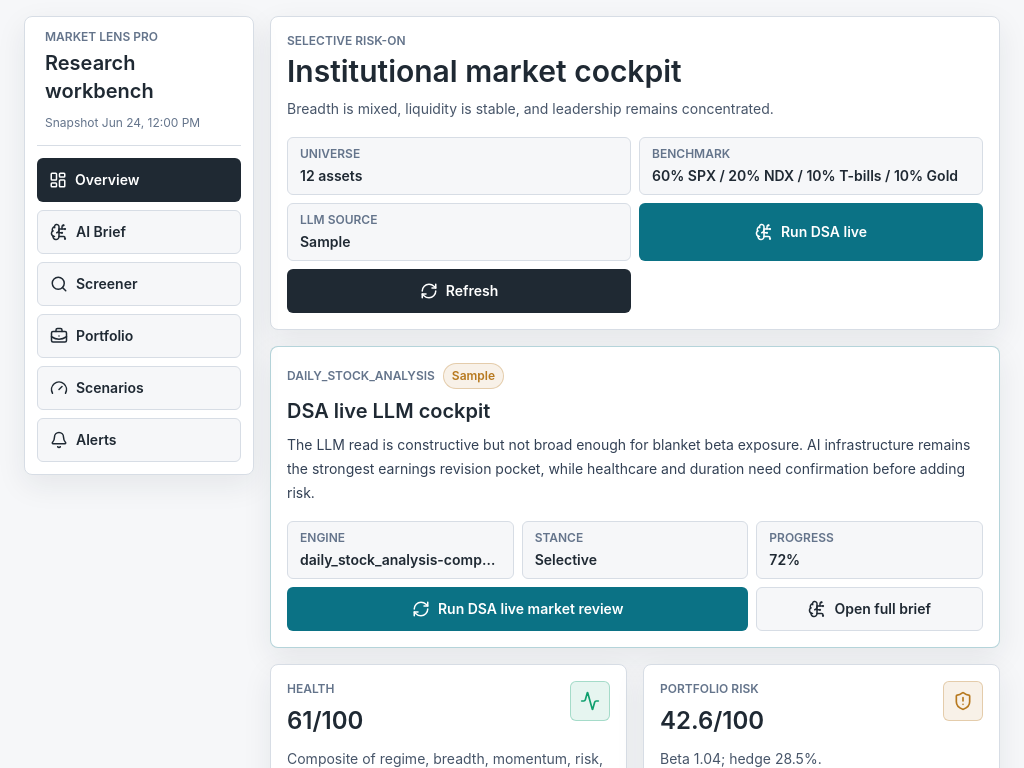
Test: MarketDashboard › supports portfolio, scenario, and alert workspaces
Click the button "Portfolio". click: [139, 336]
box: [37,314,241,358]
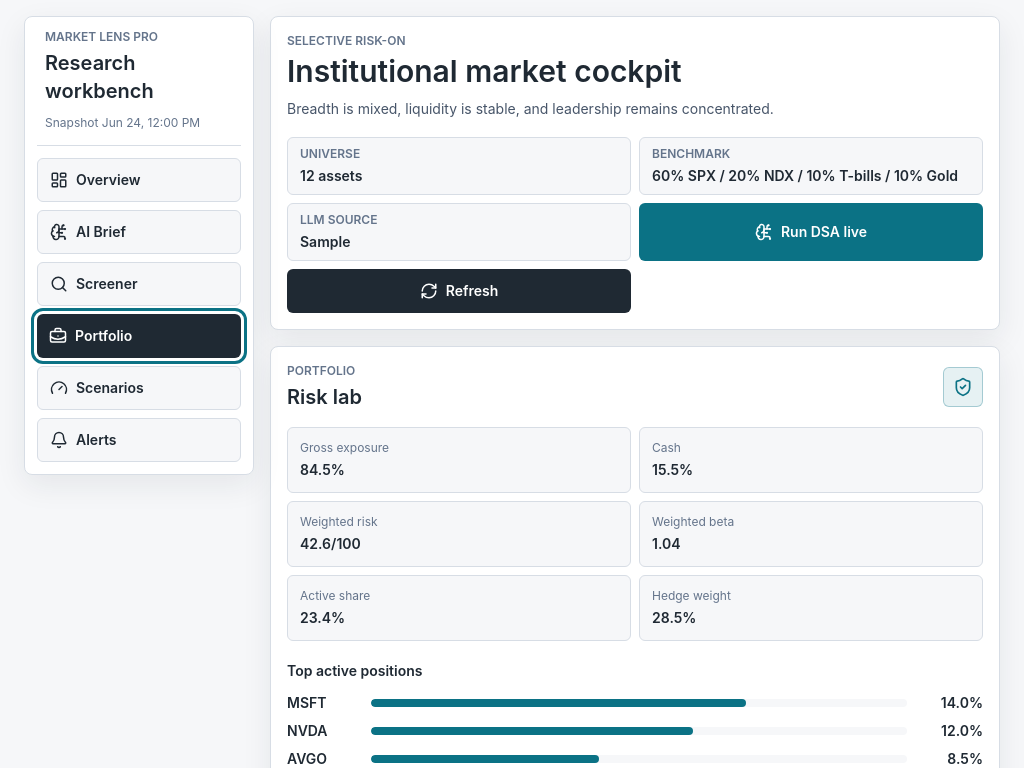
Now the heading "Risk lab" is shown, box [287,383,362,411]
Now the text "Gross exposure" is shown, box [300,440,389,455]
Click the button "AI Brief". click: [139, 232]
box: [37,210,241,254]
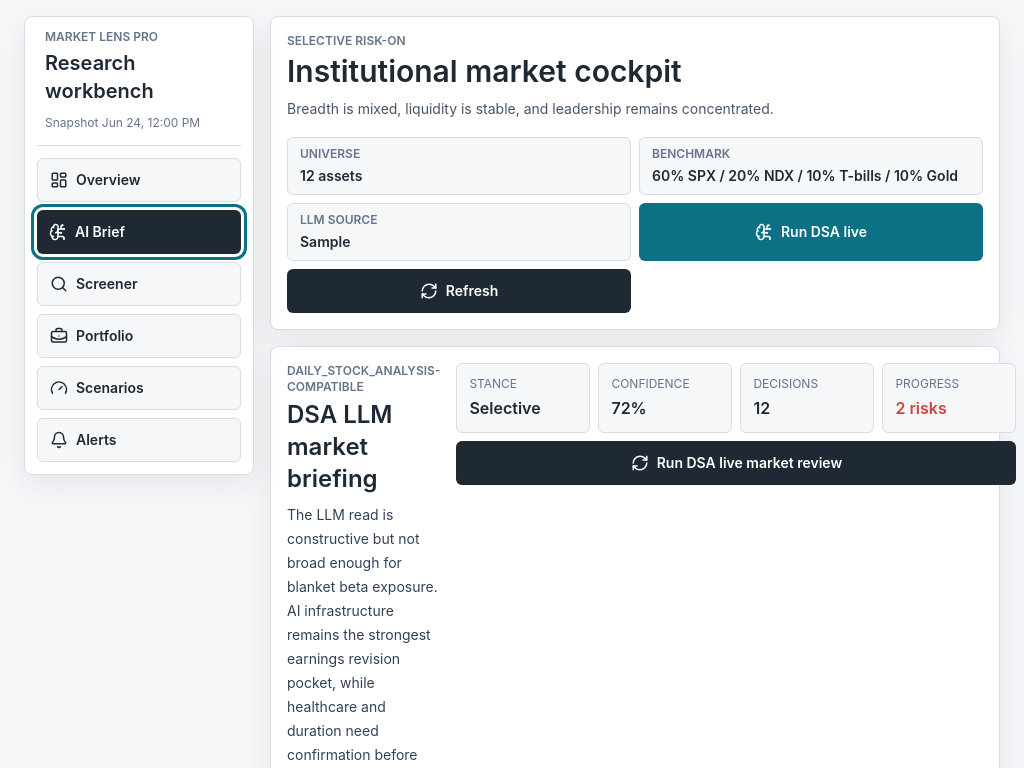
Now the heading "DSA LLM market briefing" is shown, box [287,400,392,493]
Click the button "Scenarios". click: [139, 388]
box: [37,366,241,410]
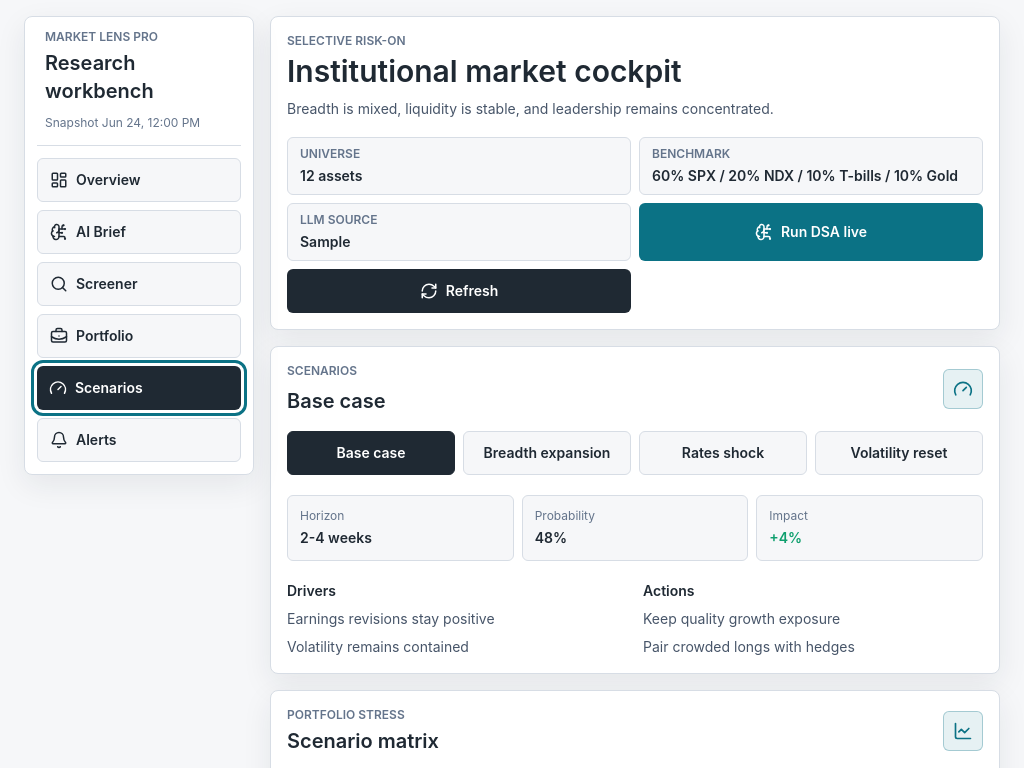
Now the heading "Scenario matrix" is shown, box [287,727,439,755]
Click the button "Alerts". click: [139, 440]
box: [37,418,241,462]
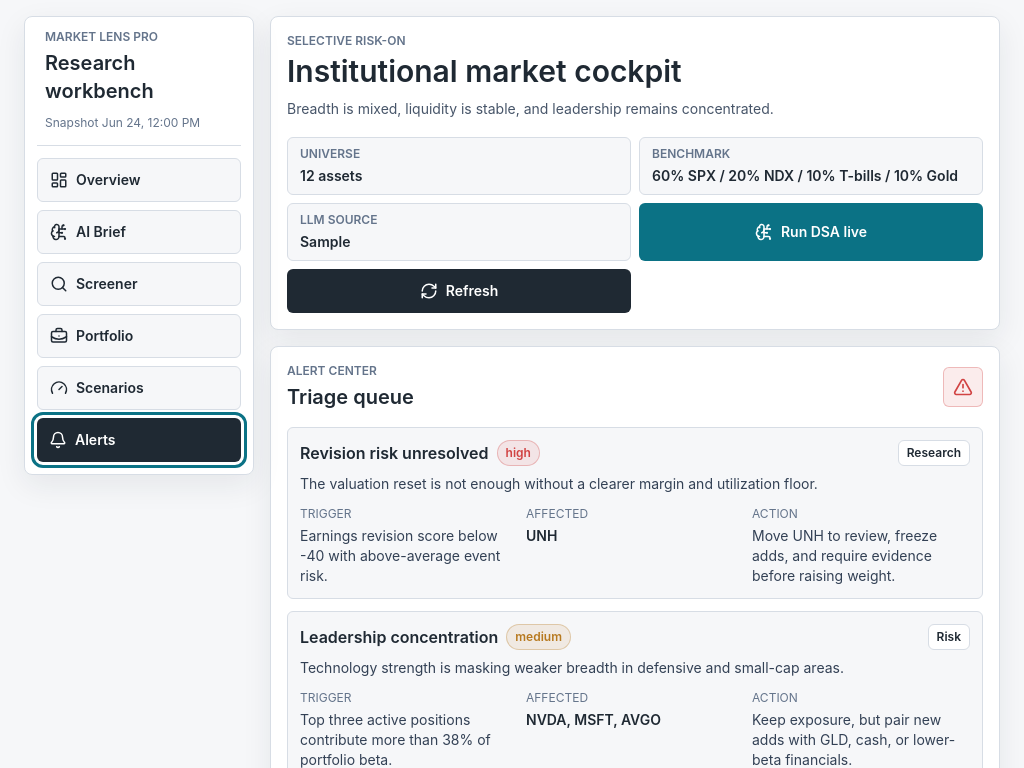
Now the heading "Triage queue" is shown, box [287,383,414,411]
Now the heading "Revision risk unresolved" is shown, box [300,441,488,465]
